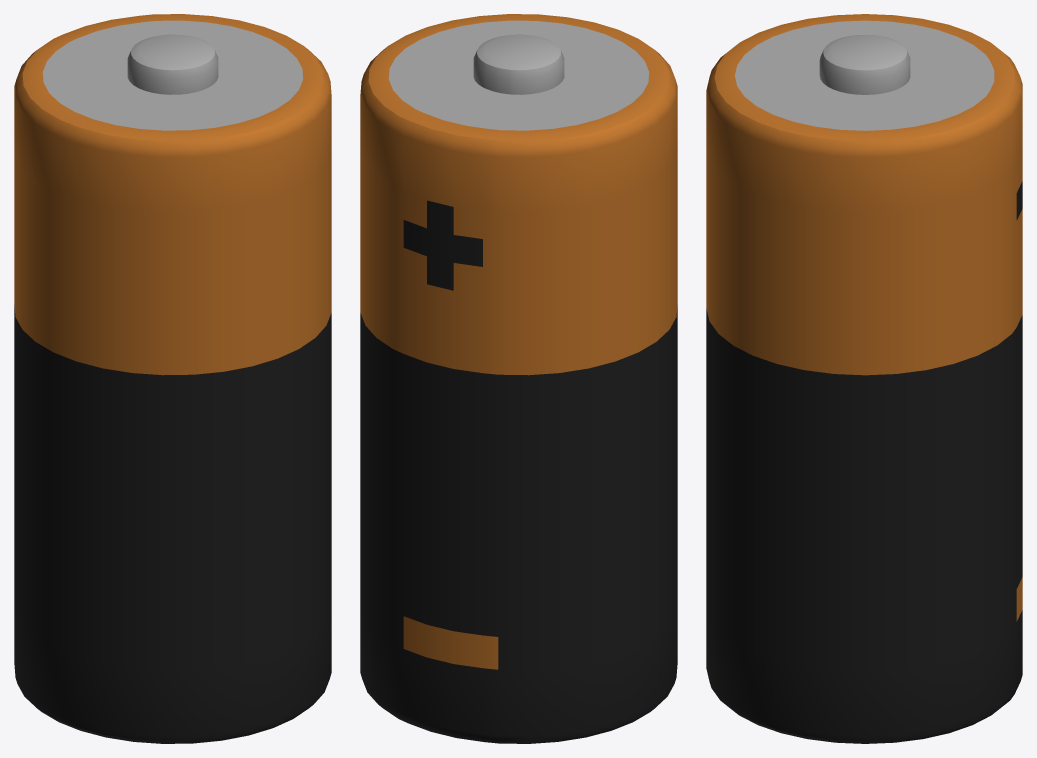
The model's file is AABattery 1.fbx.
3 renders of one model, left to right at view 1: azimuth 30°, elevation 25°; view 2: azimuth 150°, elevation 25°; view 3: azimuth 270°, elevation 25°, orthographic.
Visible parts, largest first — view 1: AABattery; view 2: AABattery; view 3: AABattery.
Boxes of the visible parts, x1,y1,x2,y2 form: AABattery: (14, 14, 331, 743); AABattery: (360, 14, 677, 743); AABattery: (706, 14, 1022, 743).
Size of the model in its own units: 0.0598 by 0.1313 by 0.0595.
